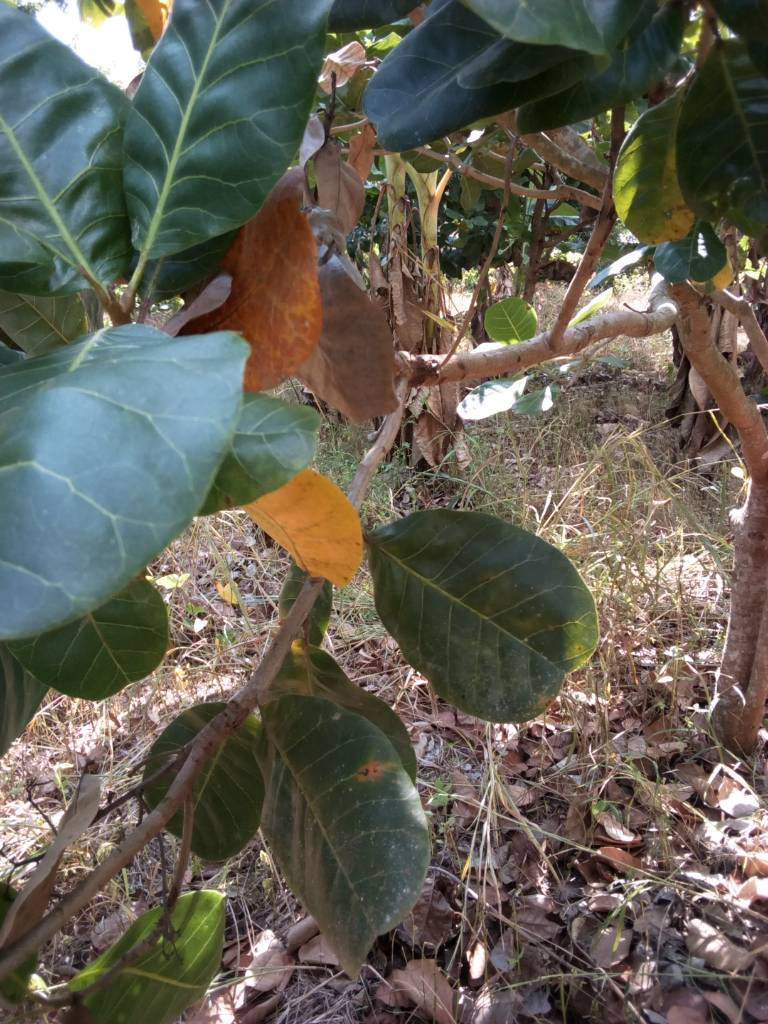Alternariose: (360, 505, 596, 722)
